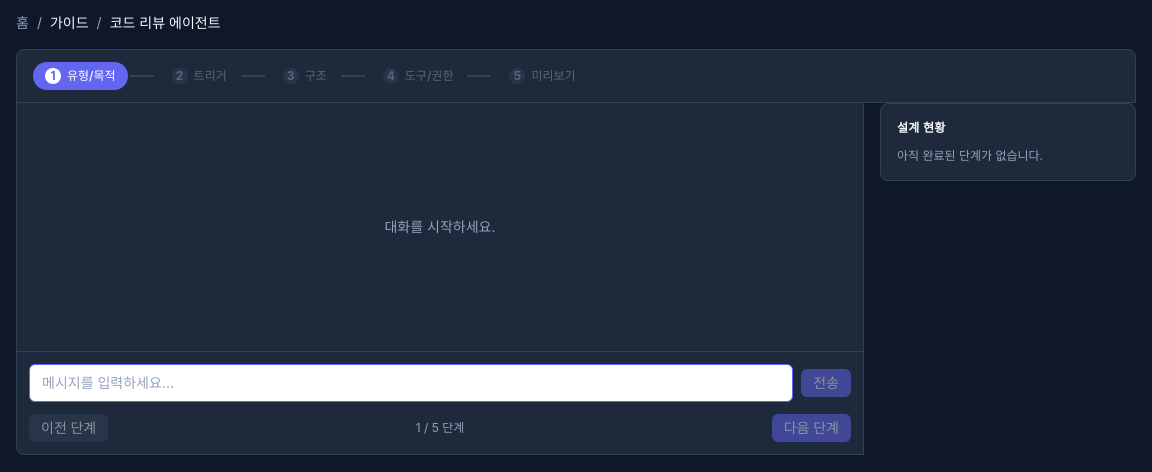
Test: GuideDialogue Integration › 시나리오 3: 메시지 전송 플로우 › 메시지 입력 → 전송 → 사용자 메시지 표시 → Claude 응답 표시
Type "코드 리뷰 스킬을 만들고 싶어요" into the field named "메시지 입력" at (411, 383), box [29,364,793,402]
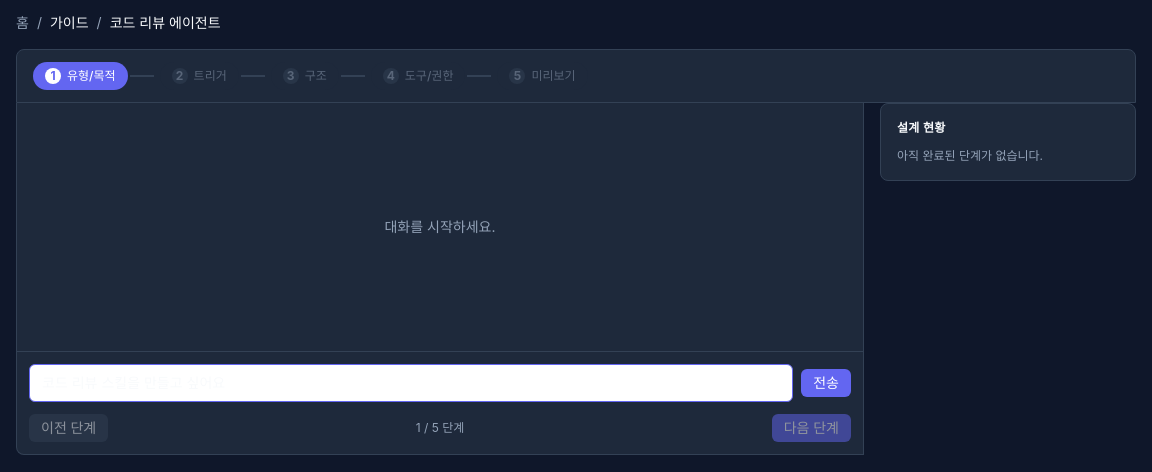
Click the button "전송" at (826, 383), box [801,369,851,397]
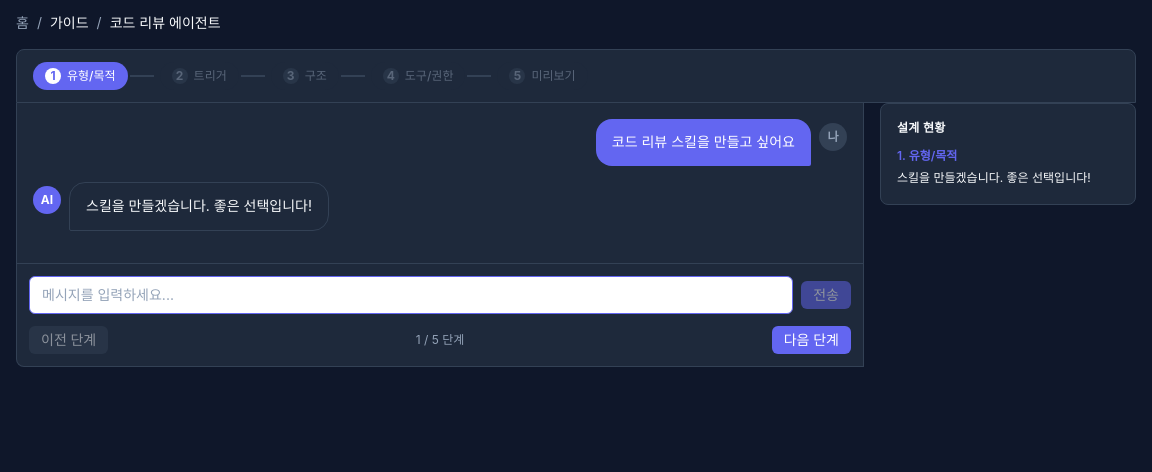
Now the text "코드 리뷰 스킬을 만들고 싶어요" is shown, box [612,133,795,150]
